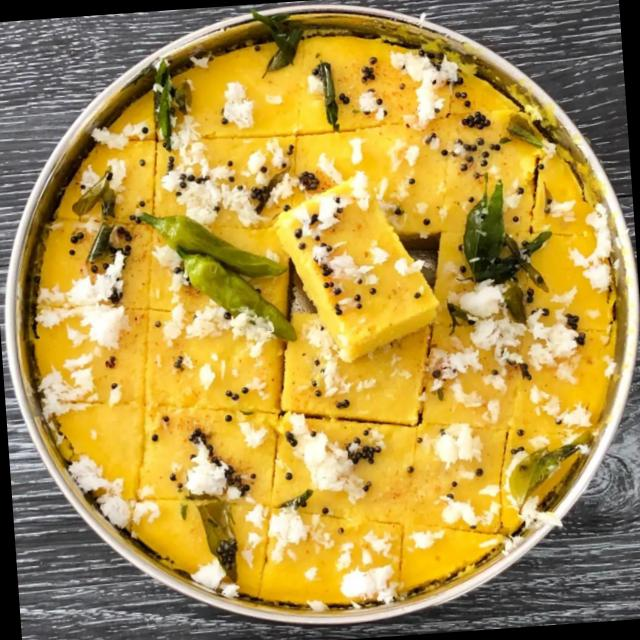dhokla: (3, 8, 640, 631)
